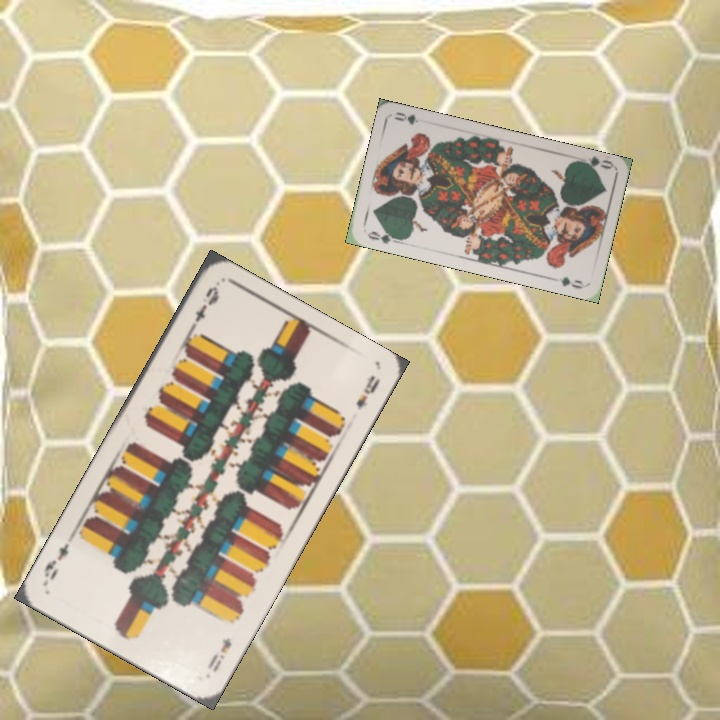E9: (185, 282, 222, 335), (203, 633, 235, 675)
GO: (574, 153, 615, 174), (363, 227, 403, 246)
